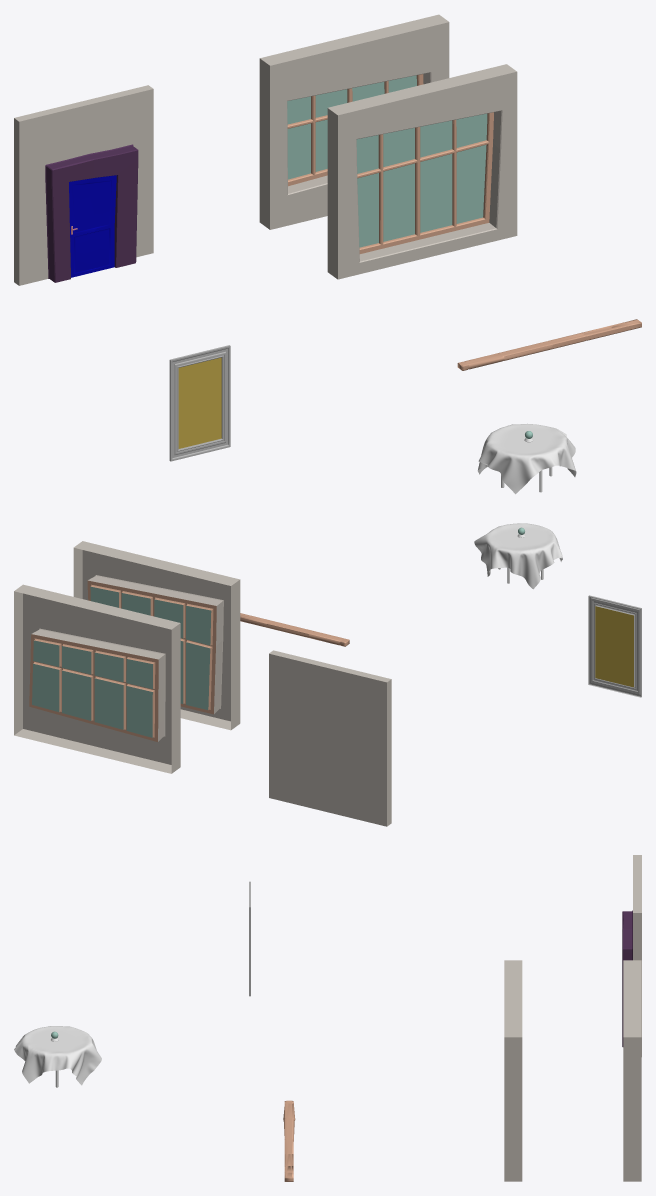
File: assets maria add.fbx
3 views of the same model, one above another, from view 1: azimuth 30°, elevation 25°; view 2: azimuth 150°, elevation 25°; view 3: azimuth 270°, elevation 25° (orthographic). The views are drawn at different scales.
Visible parts, largest first — view 1: wall_window_a1, wall_door1, wall_window_b1, kadro2.001, pCylinder8, wall hang; view 2: wall_window_b1, wall_door1, wall_window_a1, kadro2.001, pCylinder8, wall hang; view 3: wall_window_a1, wall_window_b1, pCylinder8, wall_door1, wall hang.
Boxes of the visible parts, x1,y1,x2,y2 form: wall_window_a1: (327, 64, 517, 279); wall_door1: (14, 85, 153, 285); wall_window_b1: (259, 14, 449, 229); kadro2.001: (169, 345, 230, 461); pCylinder8: (477, 423, 576, 494); wall hang: (457, 319, 641, 370); wall_window_b1: (14, 584, 180, 773); wall_door1: (269, 650, 391, 826); wall_window_a1: (73, 541, 240, 730); kadro2.001: (588, 595, 641, 697); pCylinder8: (474, 523, 562, 589); wall hang: (240, 613, 349, 646); wall_window_a1: (504, 960, 522, 1181); wall_window_b1: (623, 960, 641, 1181); pCylinder8: (14, 1026, 101, 1087); wall_door1: (622, 855, 641, 1056); wall hang: (283, 1100, 295, 1181).
Bounding box in the file's own units: 1096 × 1380 × 350.
